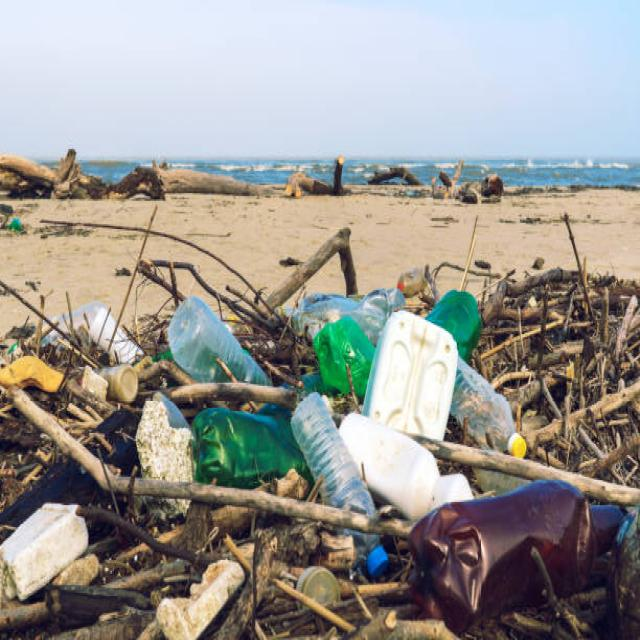plastic: (275, 340, 453, 562)
